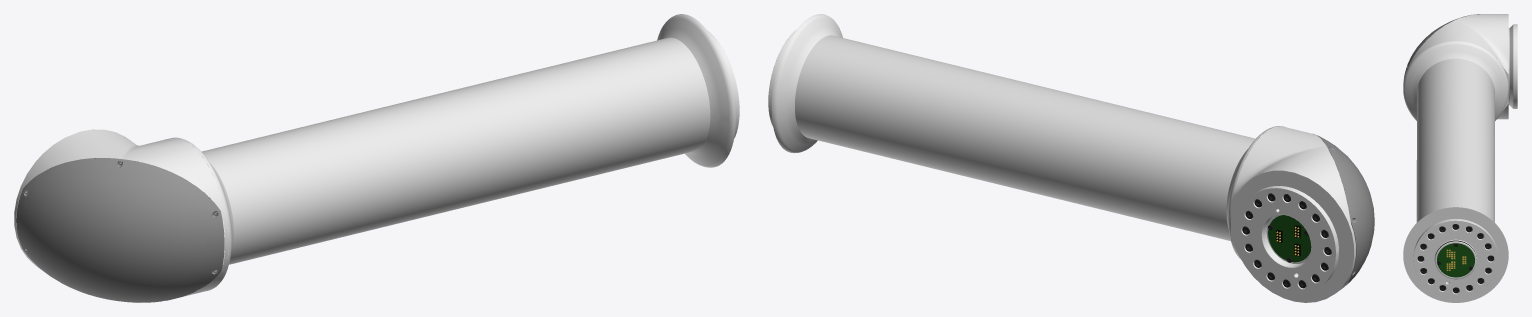
3 views of the same model, side by side, from view 1: azimuth 30°, elevation 25°; view 2: azimuth 150°, elevation 25°; view 3: azimuth 270°, elevation 25° (orthographic). The views are drawn at different scales.
Parts seen in each view (by area): view 1: L116.001; view 2: L116.001; view 3: L116.001.
Boxes of the visible parts, left/top/right/bottom form: L116.001: left=14, top=14, right=739, bottom=302; L116.001: left=768, top=14, right=1374, bottom=302; L116.001: left=1403, top=14, right=1517, bottom=302.
Size of the model in its own units: 0.5627 by 0.116 by 0.126.
